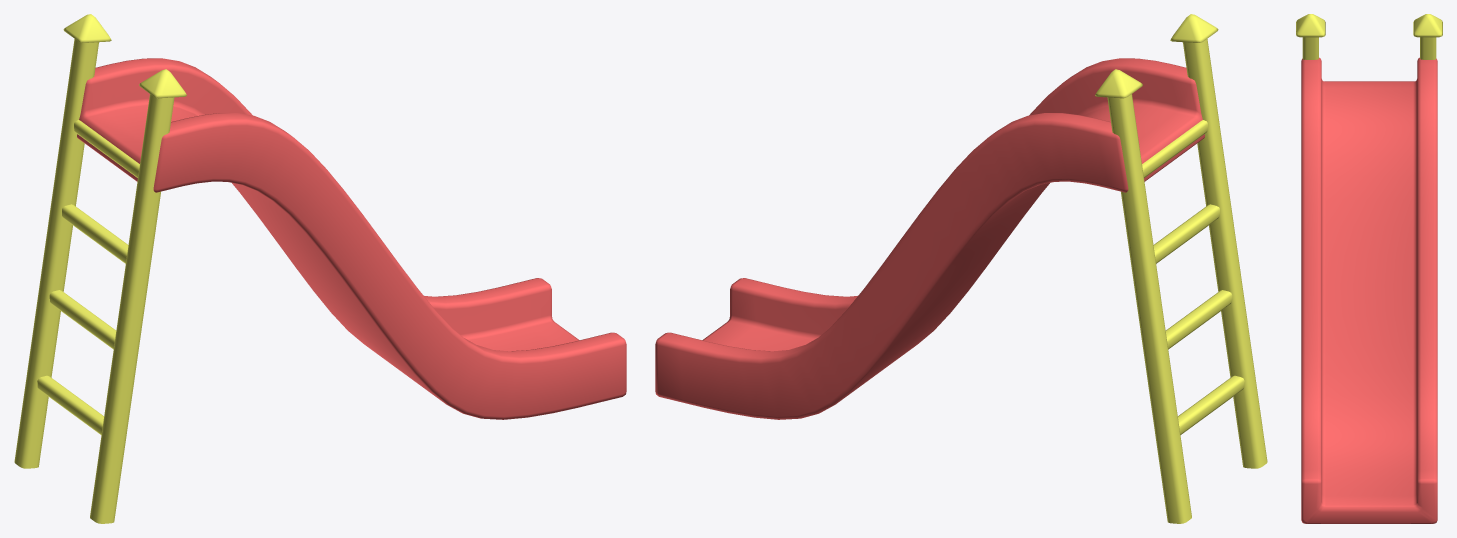
The model's file is SM_Escorrega_A.fbx.
3 renders of one model, left to right at view 1: azimuth 30°, elevation 25°; view 2: azimuth 150°, elevation 25°; view 3: azimuth 270°, elevation 25°, orthographic. The views are drawn at different scales.
Visible parts, largest first — view 1: Plane005; view 2: Plane005; view 3: Plane005.
Boxes of the visible parts, box(x1,y1,x2,y2) form: Plane005: box(14, 14, 626, 523); Plane005: box(655, 14, 1267, 523); Plane005: box(1296, 14, 1442, 523).
Bounding box in the file's own units: 174 × 137 × 53.8.
